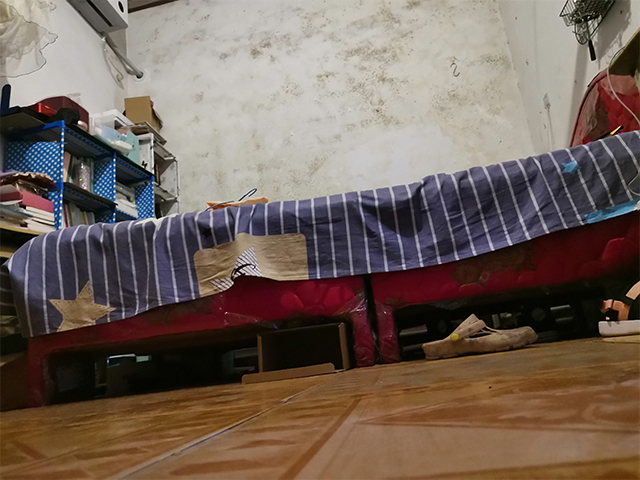bed: (5, 125, 640, 408)
slippers: (420, 312, 541, 362)
